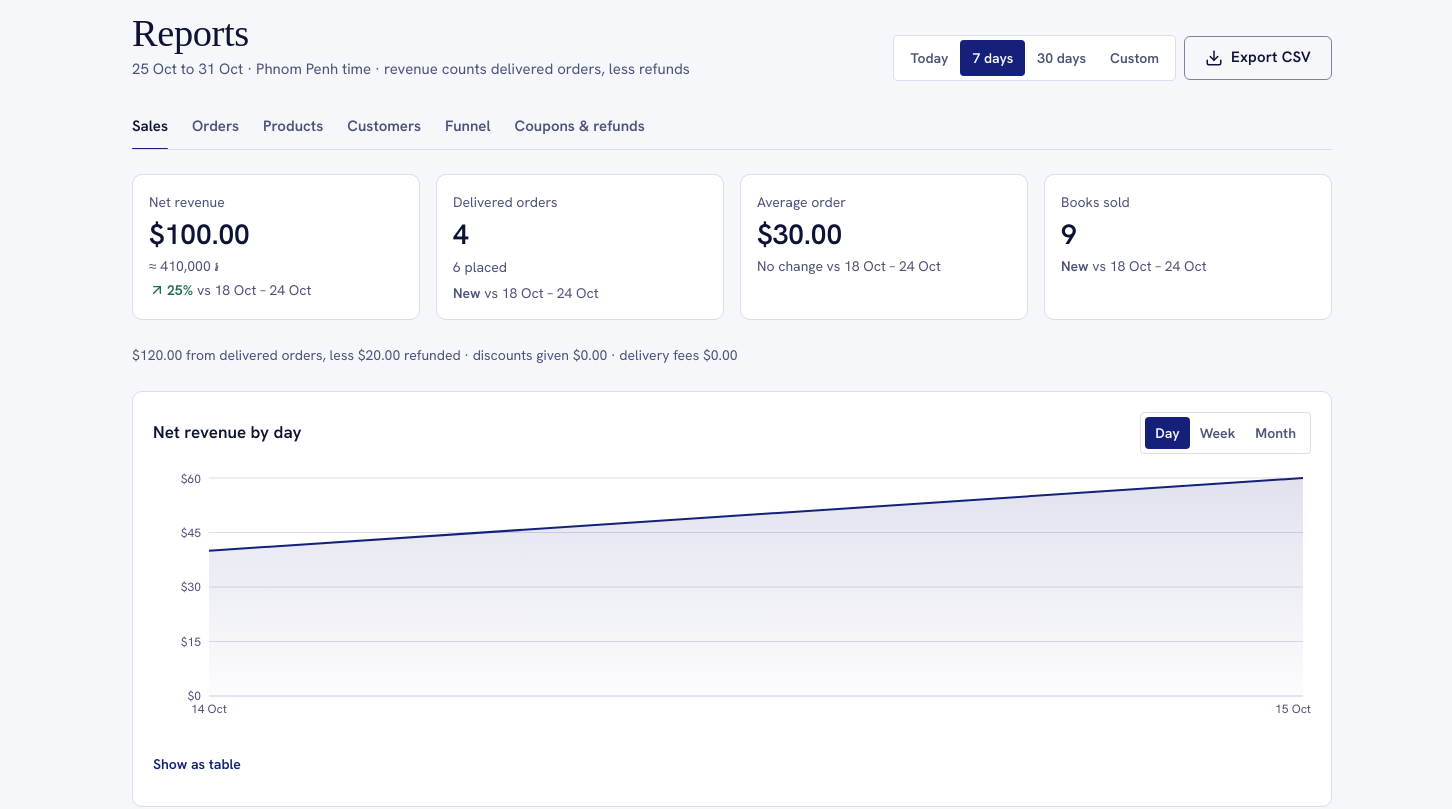
Test: reports page › keeps the period when switching tabs, and shows order mix with status labels
The width and height of the screenshot is (1452, 809).
Expected: the text "$100.00" is shown, [149,216,250,252]
Click the tab "Orders" at (216, 127), box [192,105,239,149]
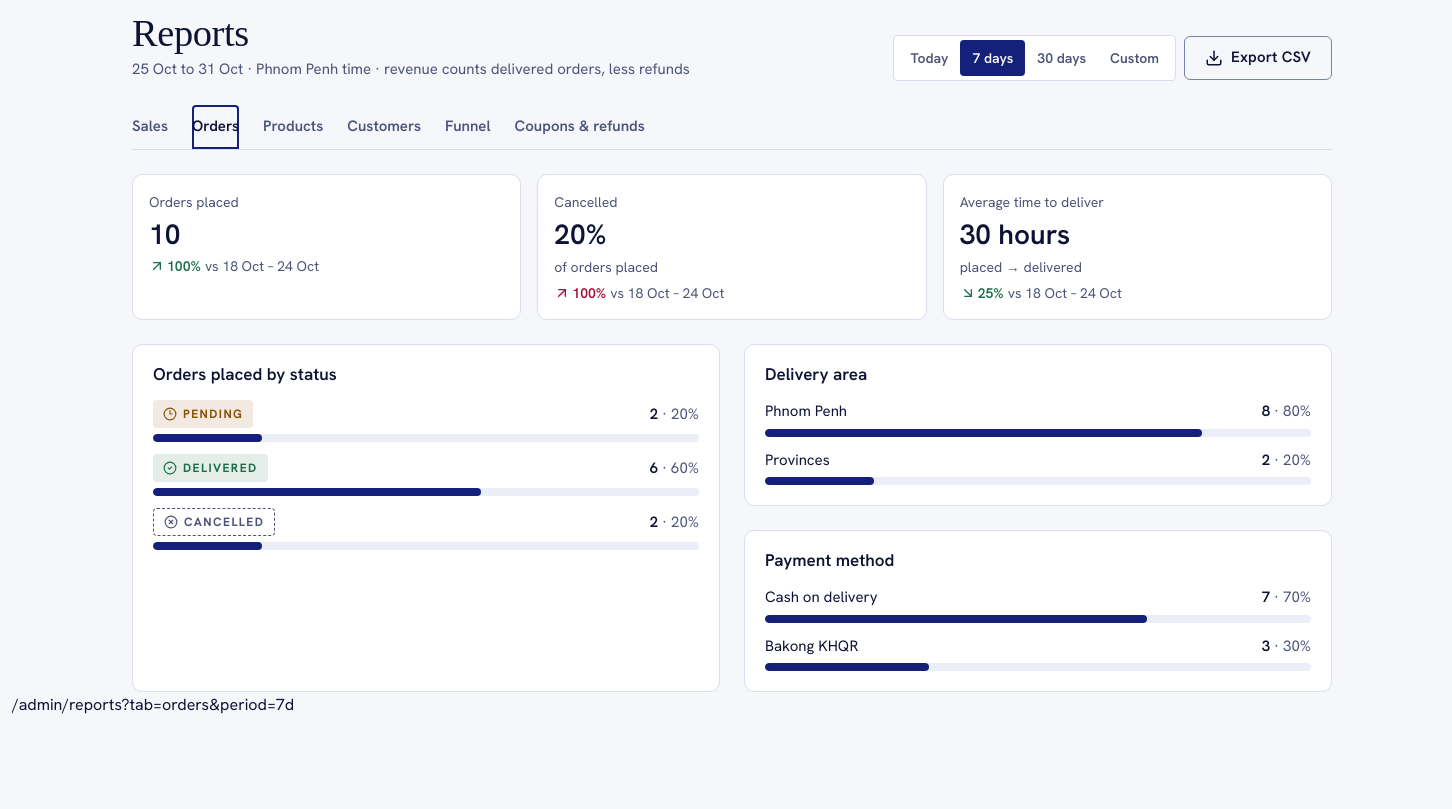
Now the text "20%" is shown, box [554,216,606,252]
Now the text with test id "where" reads "/admin/reports?tab=orders&period=7d", box [12,694,294,715]
Now the text "· 60%" is shown, box [662,458,699,478]
